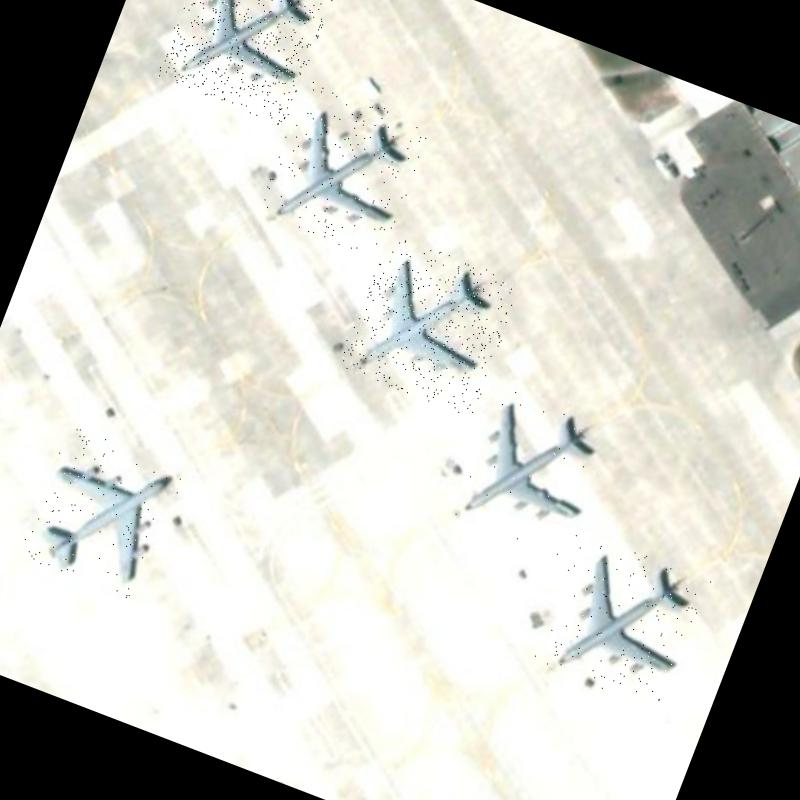A14: (336, 232, 523, 419), (437, 378, 623, 560), (531, 530, 714, 714), (255, 78, 434, 262), (18, 424, 186, 602), (154, 0, 333, 127)
